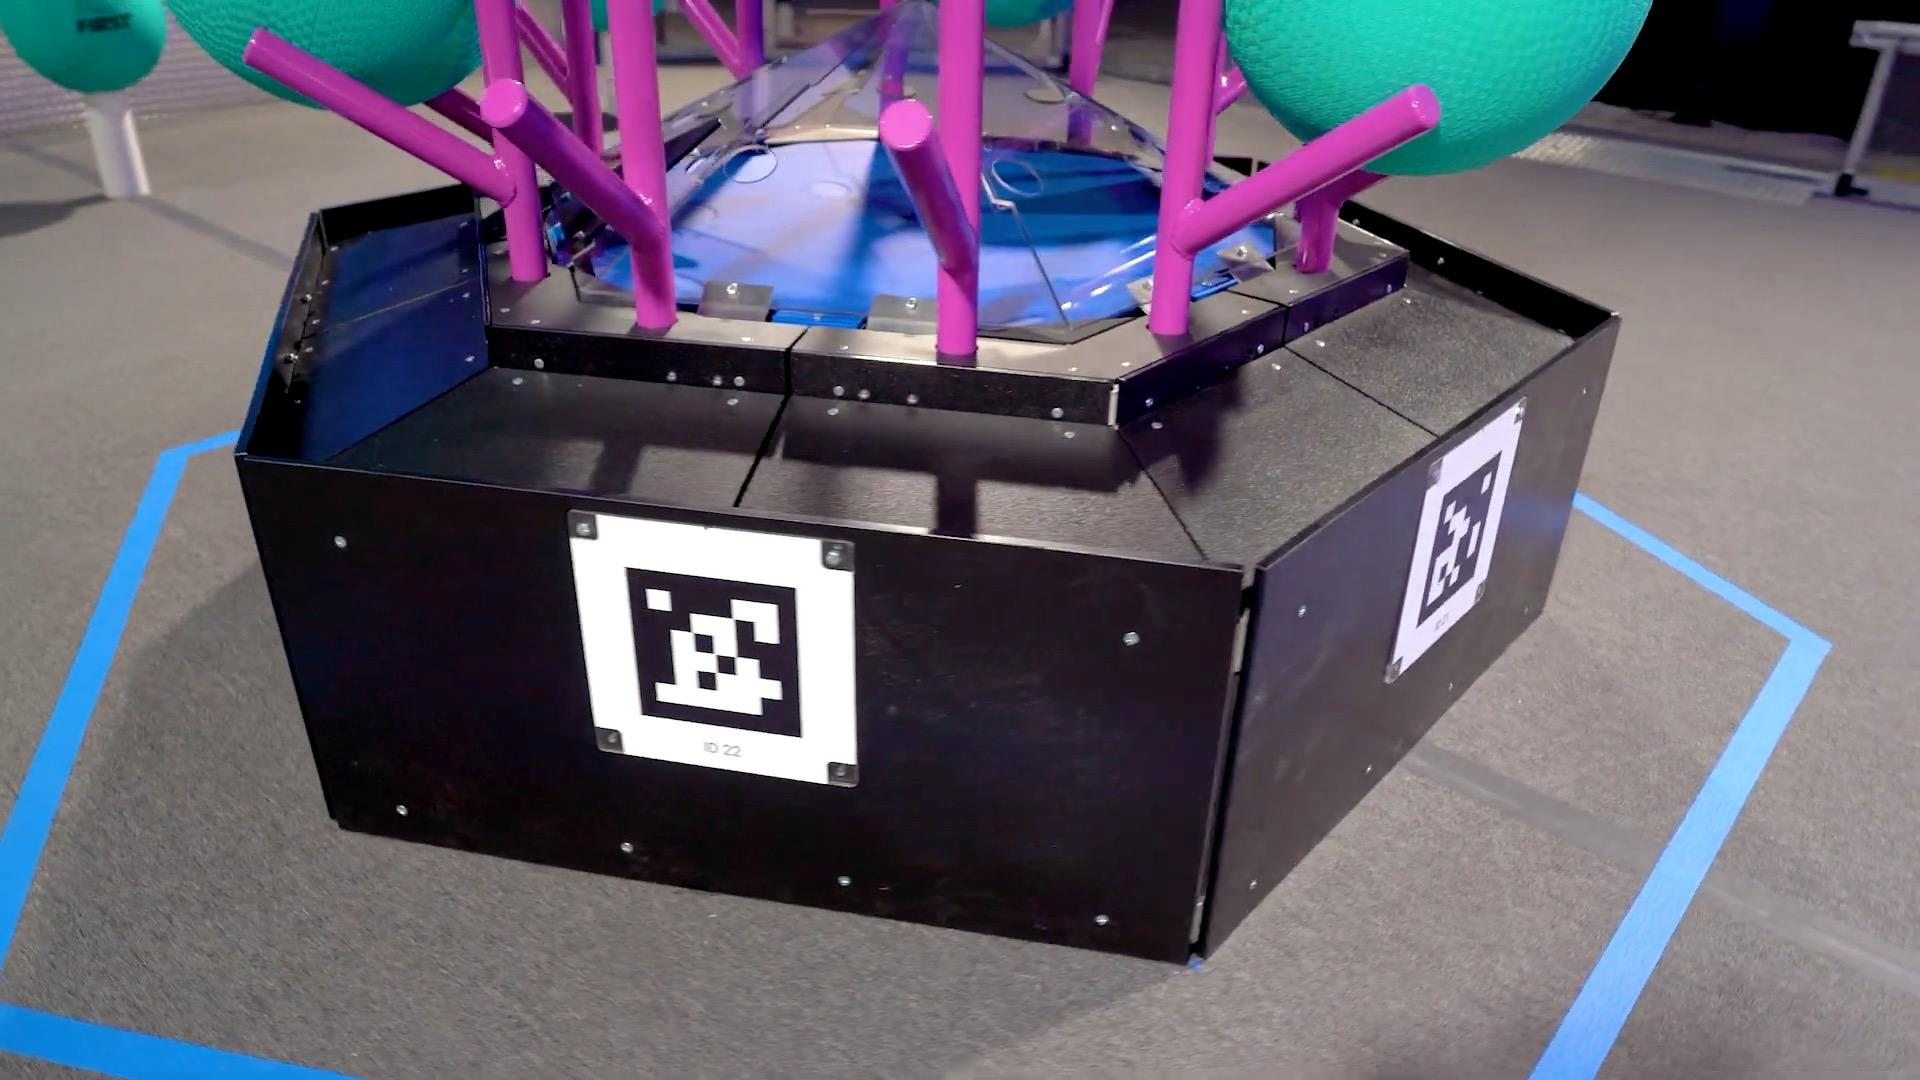ALGAE: (1220, 0, 1654, 179), (164, 0, 485, 113), (1, 0, 167, 94)
CORAL: (79, 90, 154, 199)
